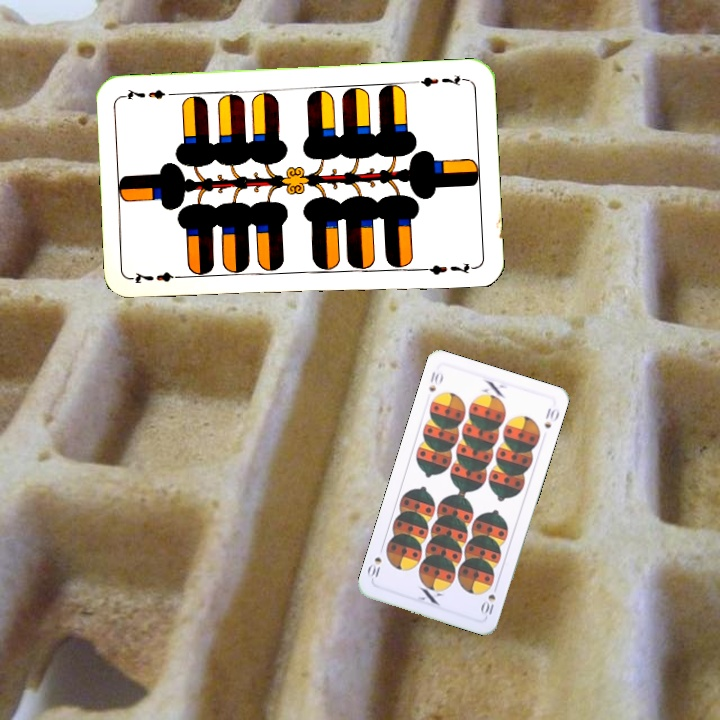E7: (410, 70, 469, 89), (129, 268, 188, 286)
S10: (477, 580, 501, 617), (424, 367, 446, 394)
